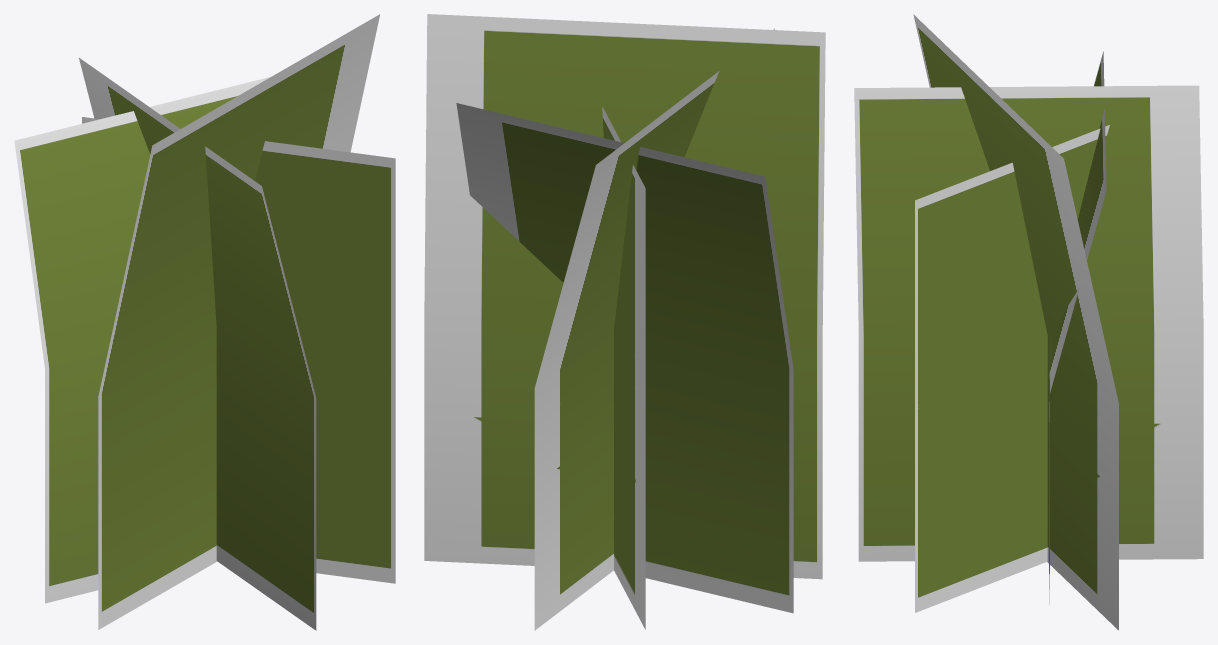
File: EA03_Plant_Grass_02a.glb
3 views of the same model, side by side, from view 1: azimuth 30°, elevation 25°; view 2: azimuth 150°, elevation 25°; view 3: azimuth 270°, elevation 25° (orthographic). The views are drawn at different scales.
Parts seen in each view (by area): view 1: EA03_Plant_Grass_02a; view 2: EA03_Plant_Grass_02a; view 3: EA03_Plant_Grass_02a.
Part boxes in pixels (x1,y1,x2,y2): EA03_Plant_Grass_02a: [14, 14, 395, 630]; EA03_Plant_Grass_02a: [424, 14, 825, 630]; EA03_Plant_Grass_02a: [854, 14, 1203, 630].
Bounding box in the file's own units: 0.3755 × 0.5185 × 0.3391.
1 material, 1 textured.
